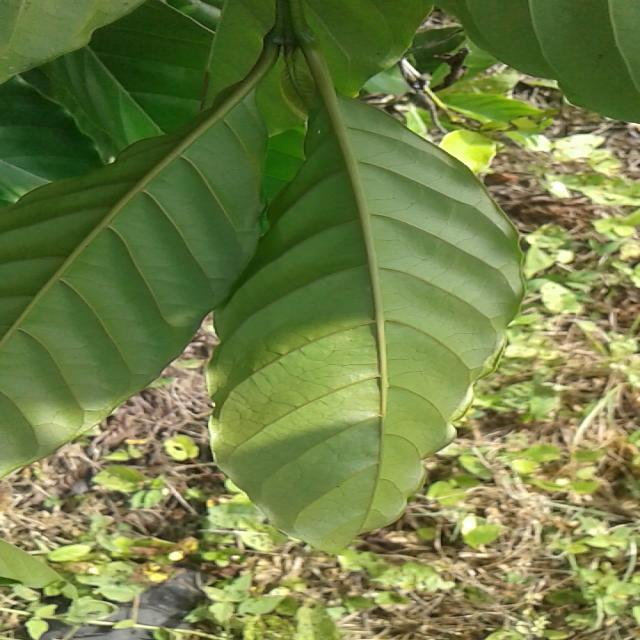Sanas: (206, 74, 524, 556)
